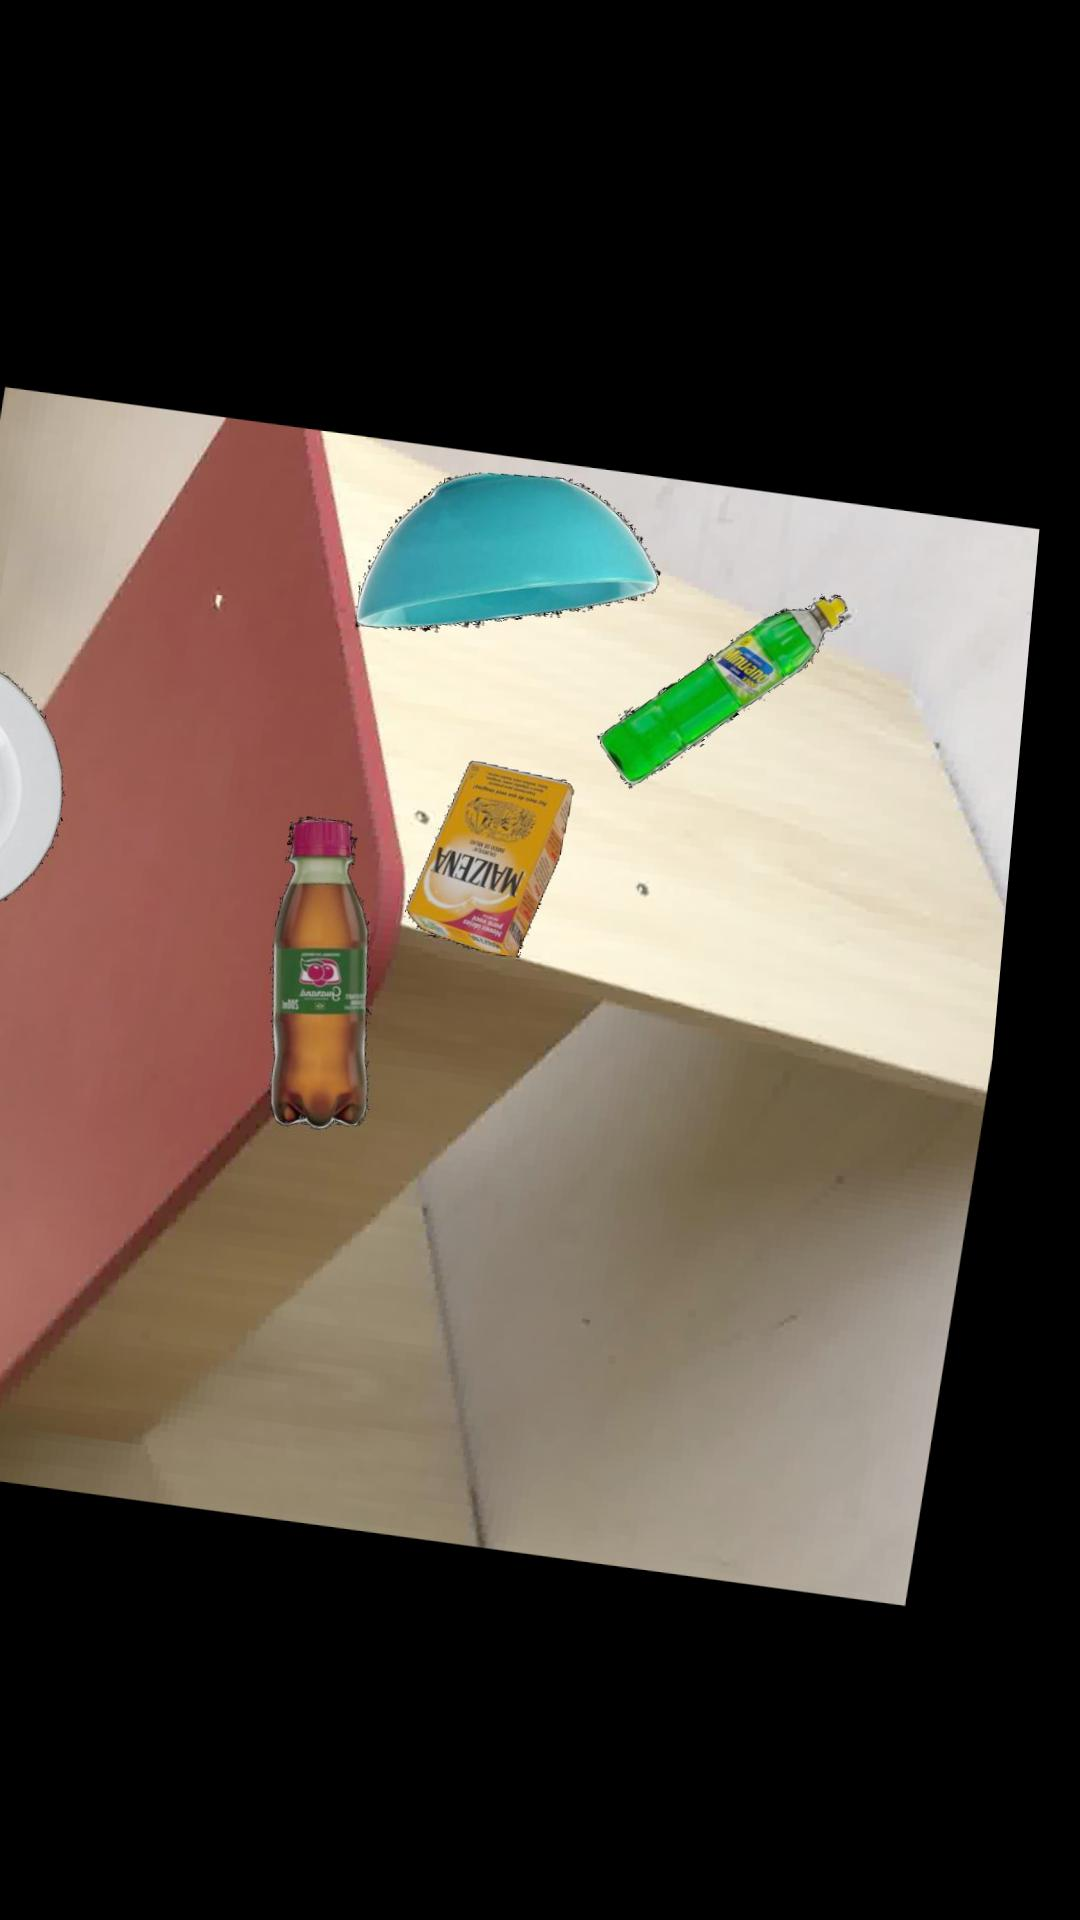bowl: (365, 463, 669, 622)
cleaner: (612, 579, 856, 773)
guarana: (287, 808, 386, 1121)
plate: (0, 659, 78, 905)
